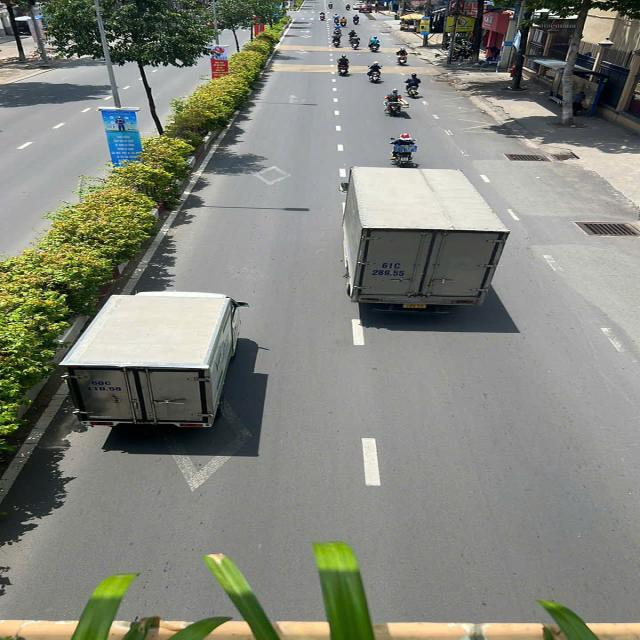ben: (49, 289, 268, 434), (333, 164, 512, 318)
motobyte: (382, 130, 421, 168), (385, 83, 411, 119), (403, 70, 429, 99), (366, 59, 386, 84), (334, 52, 353, 78), (397, 45, 414, 67), (366, 35, 384, 53), (328, 30, 346, 48), (348, 32, 364, 51)
